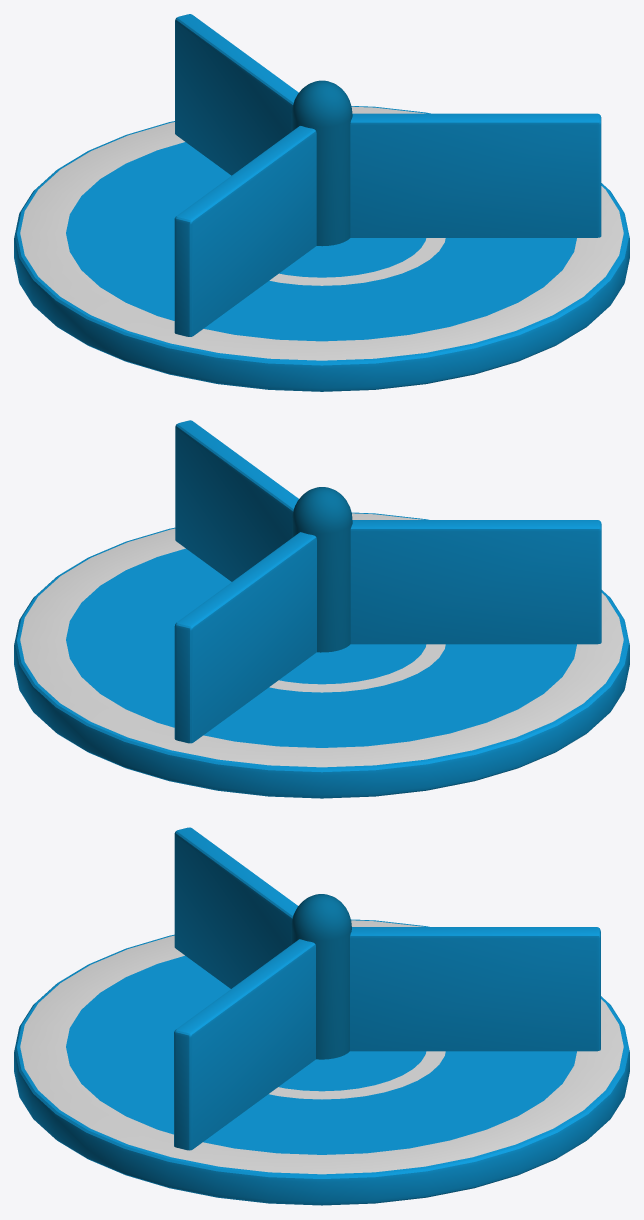
Rendered from CarrouselTrap.FBX.
3 renders of one model, top to bottom at view 1: azimuth 30°, elevation 25°; view 2: azimuth 150°, elevation 25°; view 3: azimuth 270°, elevation 25°, orthographic.
Parts seen in each view (by area): view 1: Cylinder063, Box081, Box079, Box080, Sphere006; view 2: Cylinder063, Box079, Box080, Box081, Sphere006; view 3: Cylinder063, Box080, Box081, Box079, Sphere006.
Part boxes in pixels (x1,y1,x2,y2): Cylinder063: (14,106,629,391); Box081: (350,113,601,237); Box079: (174,126,316,336); Box080: (175,14,298,175); Sphere006: (291,80,352,246); Cylinder063: (14,512,629,798); Box079: (350,520,601,644); Box080: (174,532,316,743); Box081: (175,420,298,581); Sphere006: (292,487,352,652); Cylinder063: (14,919,629,1205); Box080: (350,927,600,1051); Box081: (174,939,315,1150); Box079: (174,827,297,988); Sphere006: (291,894,351,1059).
Bounding box in the file's own units: 508 × 164 × 508.
Materials: 1 (1 with a texture image).
